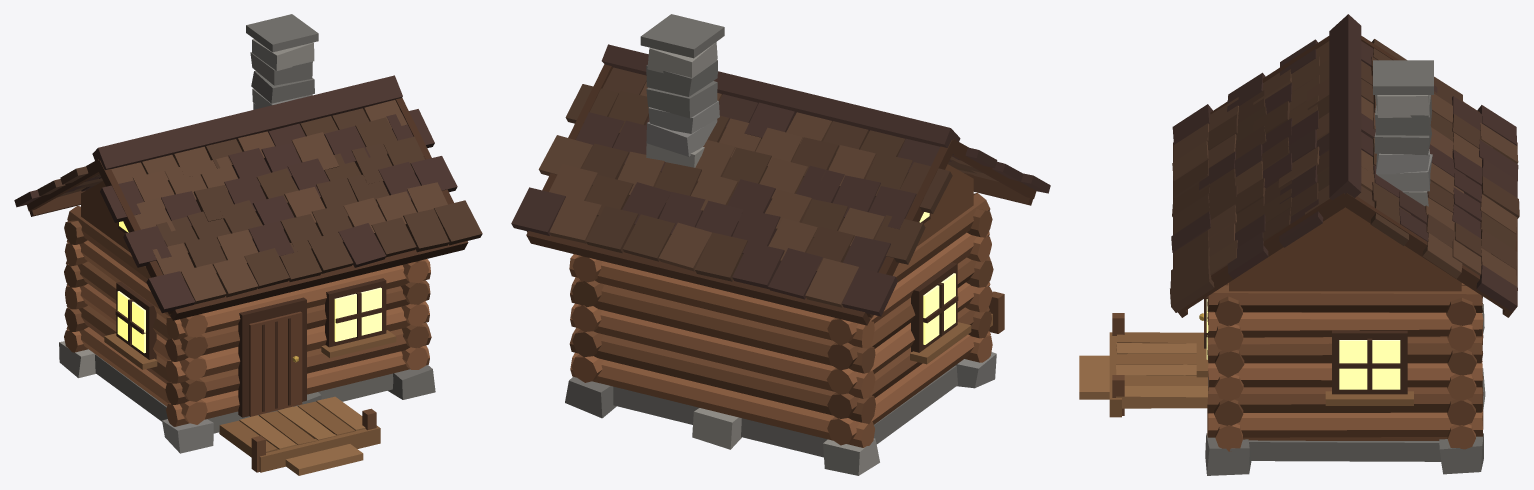
Rendered from house.glb.
3 views of the same model, side by side, from view 1: azimuth 30°, elevation 25°; view 2: azimuth 150°, elevation 25°; view 3: azimuth 270°, elevation 25° (orthographic). The views are drawn at different scales.
Visible parts, largest first — view 1: house; view 2: house; view 3: house.
Boxes of the visible parts, x1,y1,x2,y2 form: house: (14, 14, 482, 475); house: (511, 14, 1050, 475); house: (1079, 14, 1519, 475).
Bounding box in the file's own units: 3.45 × 3.29 × 3.6.
